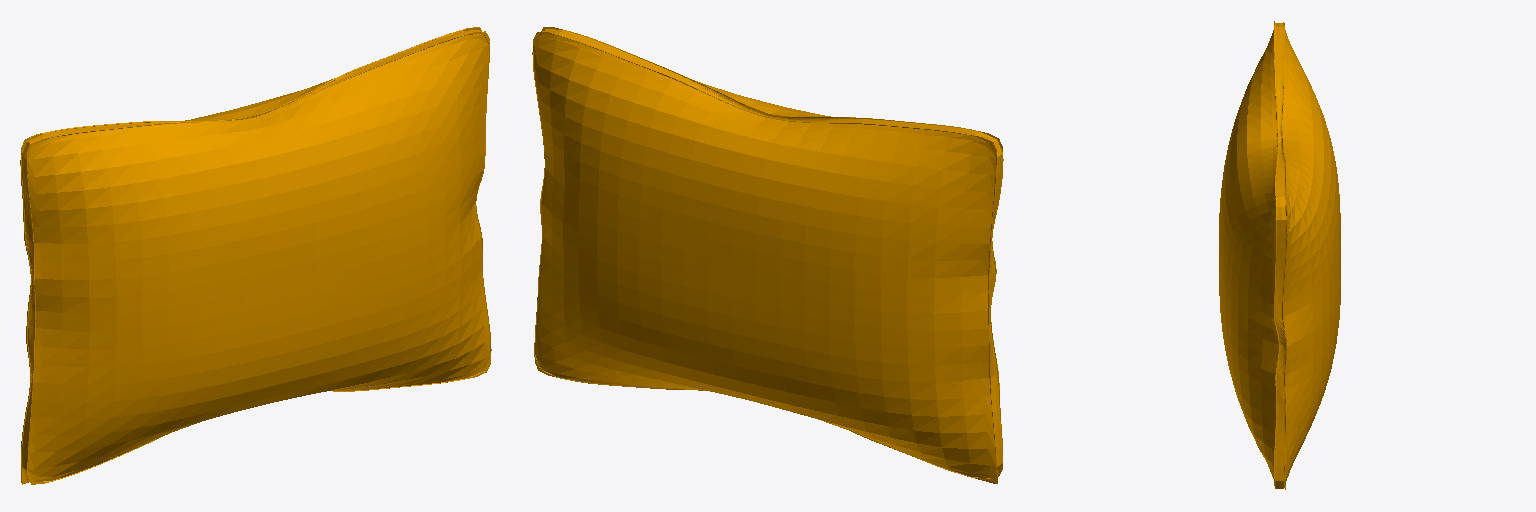
The robot description file, URDF, robot "none":
<robot name="none">
       <link name="none">
           <visual>
               <origin rpy="3.14 0 0 " xyz="0 0 0"/>
               <geometry>
                   <mesh filename="Pillow.obj" scale="0.1 0.1 0.1"/>
               </geometry>
           </visual>
          <collision>
<origin rpy="1.57 0 0" xyz="0 0 0.25" />
              <geometry>
                  <box size="0.5 1.000000 0.5" />
              </geometry>
          </collision>

          <inertial>
            <mass value="0.0" />
            <inertia ixx="0.01" ixy="0.0" ixz="0.0" iyy="0.01" iyz="0.0" izz="0.01"/>
          </inertial>
      </link>
  </robot>

--- Facts derived from the render (not from the file) ---
The picture shows the robot from 3 angles, left to right: view 1: azimuth 30°, elevation 25°; view 2: azimuth 150°, elevation 25°; view 3: azimuth 270°, elevation 25°; orthographic projection.
Robot: none — 1 links, 0 joints (none); root link none; default pose: every joint at zero.
Links seen in each view (by area): view 1: none; view 2: none; view 3: none.
Link boxes in pixels (box(x1,y1,x2,y2)): none: box(20, 27, 491, 484); none: box(532, 27, 1003, 483); none: box(1219, 21, 1340, 489).
Size in the robot's own frame: 0.8303 by 0.2267 by 0.5911 metres.
1 mesh visuals loaded from 1 distinct referenced files (1 OBJ).